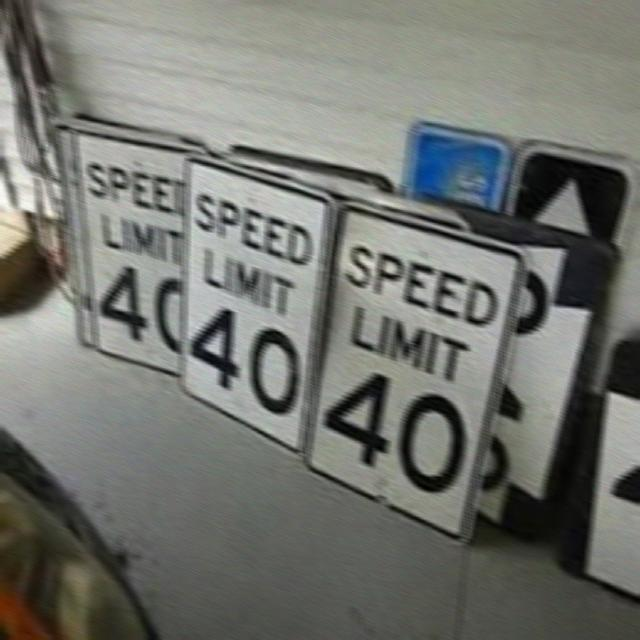speedLimit40: (335, 188, 500, 548), (187, 137, 310, 460), (68, 132, 194, 373)
